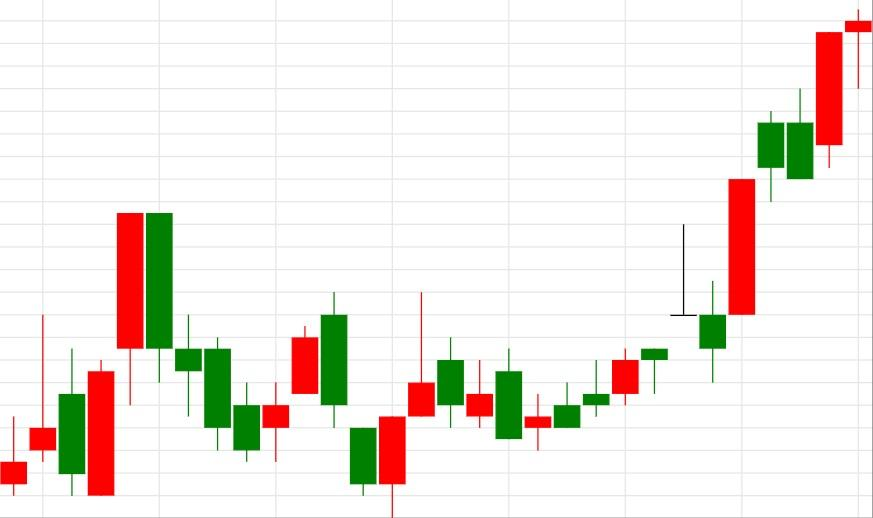bearish_engulfing_fall: (232, 291, 348, 463)
bullish_engulfing_rise: (290, 291, 407, 518)
